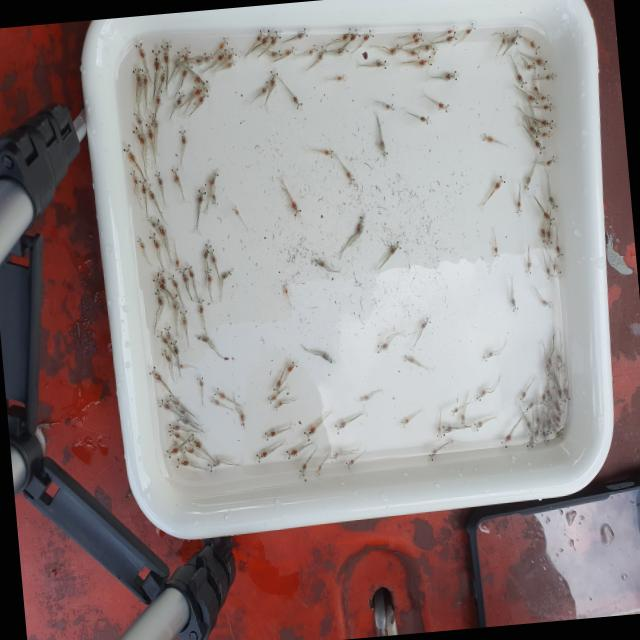babyshrimp: (131, 120, 148, 145), (149, 269, 168, 291), (190, 71, 209, 93), (152, 214, 168, 240), (561, 373, 572, 407), (144, 179, 158, 205), (499, 427, 513, 451), (288, 197, 302, 221), (187, 431, 205, 449), (330, 415, 347, 434), (159, 37, 170, 66), (438, 418, 453, 439), (204, 455, 221, 473), (491, 173, 508, 191), (164, 388, 180, 407), (550, 421, 565, 441), (515, 66, 528, 89), (554, 348, 565, 375), (149, 106, 160, 133), (122, 140, 136, 161), (148, 362, 165, 379), (149, 230, 162, 252), (353, 214, 366, 236), (177, 263, 190, 285), (301, 421, 316, 440), (321, 348, 338, 364), (156, 394, 172, 411), (193, 78, 208, 96), (257, 79, 271, 98), (442, 67, 461, 81), (208, 163, 219, 187), (157, 269, 167, 295), (530, 112, 543, 132), (251, 448, 268, 463), (555, 383, 566, 406), (151, 45, 160, 73), (267, 67, 279, 88), (361, 26, 375, 44), (543, 352, 553, 377), (550, 407, 563, 426), (197, 86, 210, 105), (552, 359, 563, 381), (281, 445, 297, 460), (153, 285, 165, 305), (291, 91, 303, 111), (386, 40, 402, 55), (526, 36, 541, 52), (155, 328, 169, 345), (222, 44, 236, 61), (388, 239, 402, 256), (397, 413, 410, 431), (145, 214, 158, 232), (140, 64, 149, 90), (181, 59, 194, 77), (377, 140, 389, 159), (164, 444, 178, 460), (216, 34, 230, 50), (213, 46, 227, 62), (435, 97, 449, 113), (552, 398, 565, 415), (533, 138, 546, 155), (179, 306, 189, 328), (131, 61, 141, 83), (513, 197, 524, 217), (552, 416, 564, 434), (160, 345, 172, 363), (170, 289, 178, 316), (159, 64, 168, 88), (172, 47, 184, 65), (272, 375, 282, 396), (175, 410, 190, 424), (525, 89, 540, 103), (196, 183, 206, 204), (144, 120, 155, 139), (206, 244, 217, 263), (212, 385, 228, 398), (133, 40, 146, 56), (268, 30, 281, 46), (174, 456, 191, 468), (132, 111, 144, 128), (543, 208, 555, 225), (548, 193, 558, 213), (163, 323, 172, 345), (139, 174, 148, 196), (179, 45, 190, 63), (316, 43, 327, 61), (551, 261, 562, 279), (174, 402, 188, 416), (473, 386, 486, 401), (282, 43, 295, 58), (527, 122, 540, 137), (545, 151, 558, 166), (418, 111, 431, 126), (481, 346, 493, 362), (418, 316, 430, 332), (348, 26, 360, 42), (509, 295, 519, 314), (127, 166, 136, 187), (544, 413, 552, 436), (402, 352, 415, 366), (374, 339, 388, 352), (261, 426, 275, 439), (167, 426, 181, 439), (295, 25, 308, 39), (339, 27, 353, 40), (463, 21, 477, 34), (535, 56, 548, 70), (471, 417, 483, 432), (298, 459, 308, 477), (181, 443, 196, 455), (162, 398, 174, 413), (161, 38, 171, 56), (185, 261, 195, 279), (329, 447, 340, 463), (152, 169, 163, 185), (154, 85, 162, 107), (416, 55, 432, 66), (541, 425, 550, 444), (523, 258, 532, 277), (170, 337, 180, 354), (509, 27, 519, 44), (266, 391, 279, 404), (260, 31, 273, 44), (481, 130, 494, 143), (170, 438, 182, 452), (410, 32, 424, 44), (420, 41, 434, 53), (445, 28, 457, 42), (195, 332, 209, 344), (343, 454, 354, 469), (174, 89, 185, 104), (345, 168, 356, 183), (544, 357, 552, 377), (517, 388, 527, 404), (427, 446, 437, 462), (272, 394, 282, 410), (174, 256, 182, 276), (539, 117, 555, 127), (554, 243, 564, 259), (201, 238, 209, 258), (306, 41, 318, 54), (542, 68, 555, 80), (541, 296, 553, 309), (220, 268, 233, 280), (286, 359, 297, 373), (239, 409, 246, 431), (187, 85, 198, 99), (311, 256, 325, 267), (196, 292, 203, 314), (136, 232, 145, 249), (210, 191, 219, 208), (169, 272, 179, 287), (138, 64, 144, 89), (334, 45, 349, 55), (525, 416, 533, 434), (433, 424, 442, 440), (208, 394, 220, 406), (223, 58, 235, 70), (375, 58, 387, 70), (500, 28, 508, 46), (269, 49, 282, 60), (532, 83, 543, 96), (459, 411, 466, 431), (406, 47, 420, 57), (545, 226, 552, 246), (543, 265, 553, 279), (230, 202, 240, 216), (206, 263, 213, 283), (523, 175, 531, 192), (536, 92, 551, 101), (492, 240, 499, 259), (447, 404, 458, 416), (254, 28, 265, 40), (334, 72, 346, 83), (410, 27, 423, 37), (321, 147, 334, 157), (538, 390, 546, 406), (526, 432, 534, 448), (539, 227, 547, 243), (171, 166, 179, 182), (196, 372, 205, 386), (537, 223, 544, 241), (445, 22, 456, 33), (167, 422, 179, 432), (178, 128, 186, 143), (192, 55, 205, 64), (539, 101, 552, 110), (172, 358, 183, 368), (540, 129, 551, 139), (535, 412, 540, 433), (314, 461, 321, 476), (358, 393, 371, 401), (202, 51, 212, 61), (446, 435, 455, 446), (533, 426, 539, 442), (430, 44, 438, 56), (383, 102, 395, 110), (525, 60, 534, 70), (525, 400, 533, 411), (282, 279, 288, 293), (507, 35, 516, 44), (546, 385, 551, 399)
